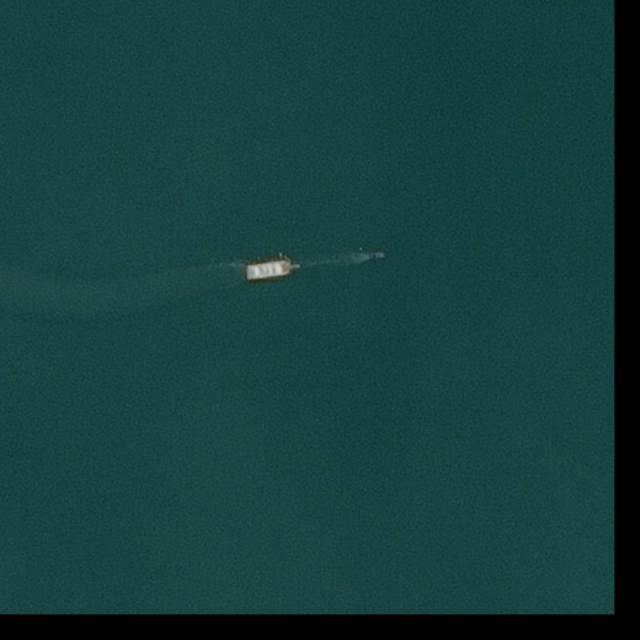ship: (244, 258, 302, 281), (372, 252, 385, 258)
